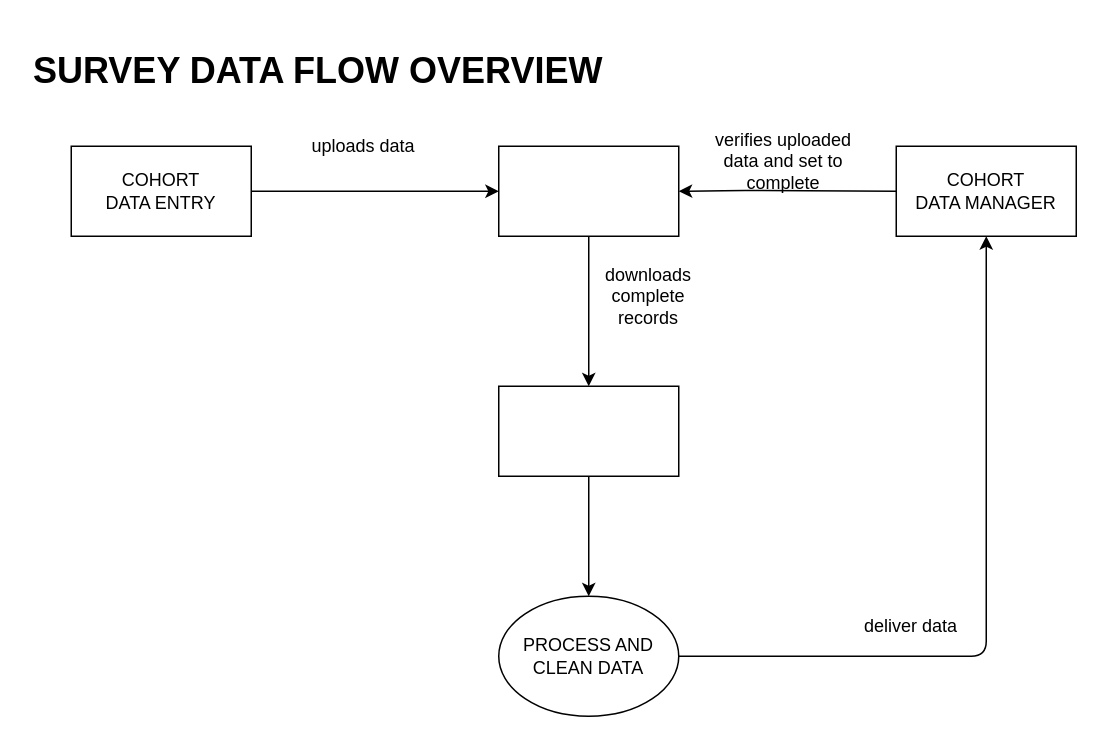
This 1103x743 diagram has some shape labels left out. The centre of each missing label's shape, as x and y in pixels:
"NCP" belongs at (588,430).
"REDCAP" belongs at (588,190).
